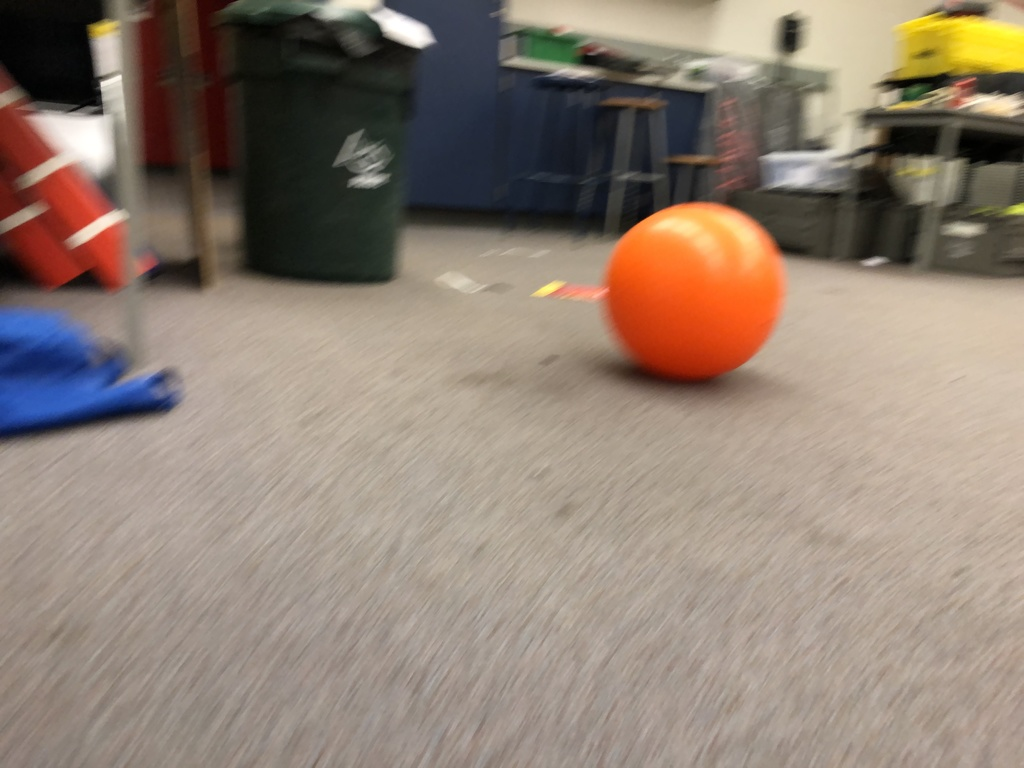cargo: (603, 194, 792, 390)
